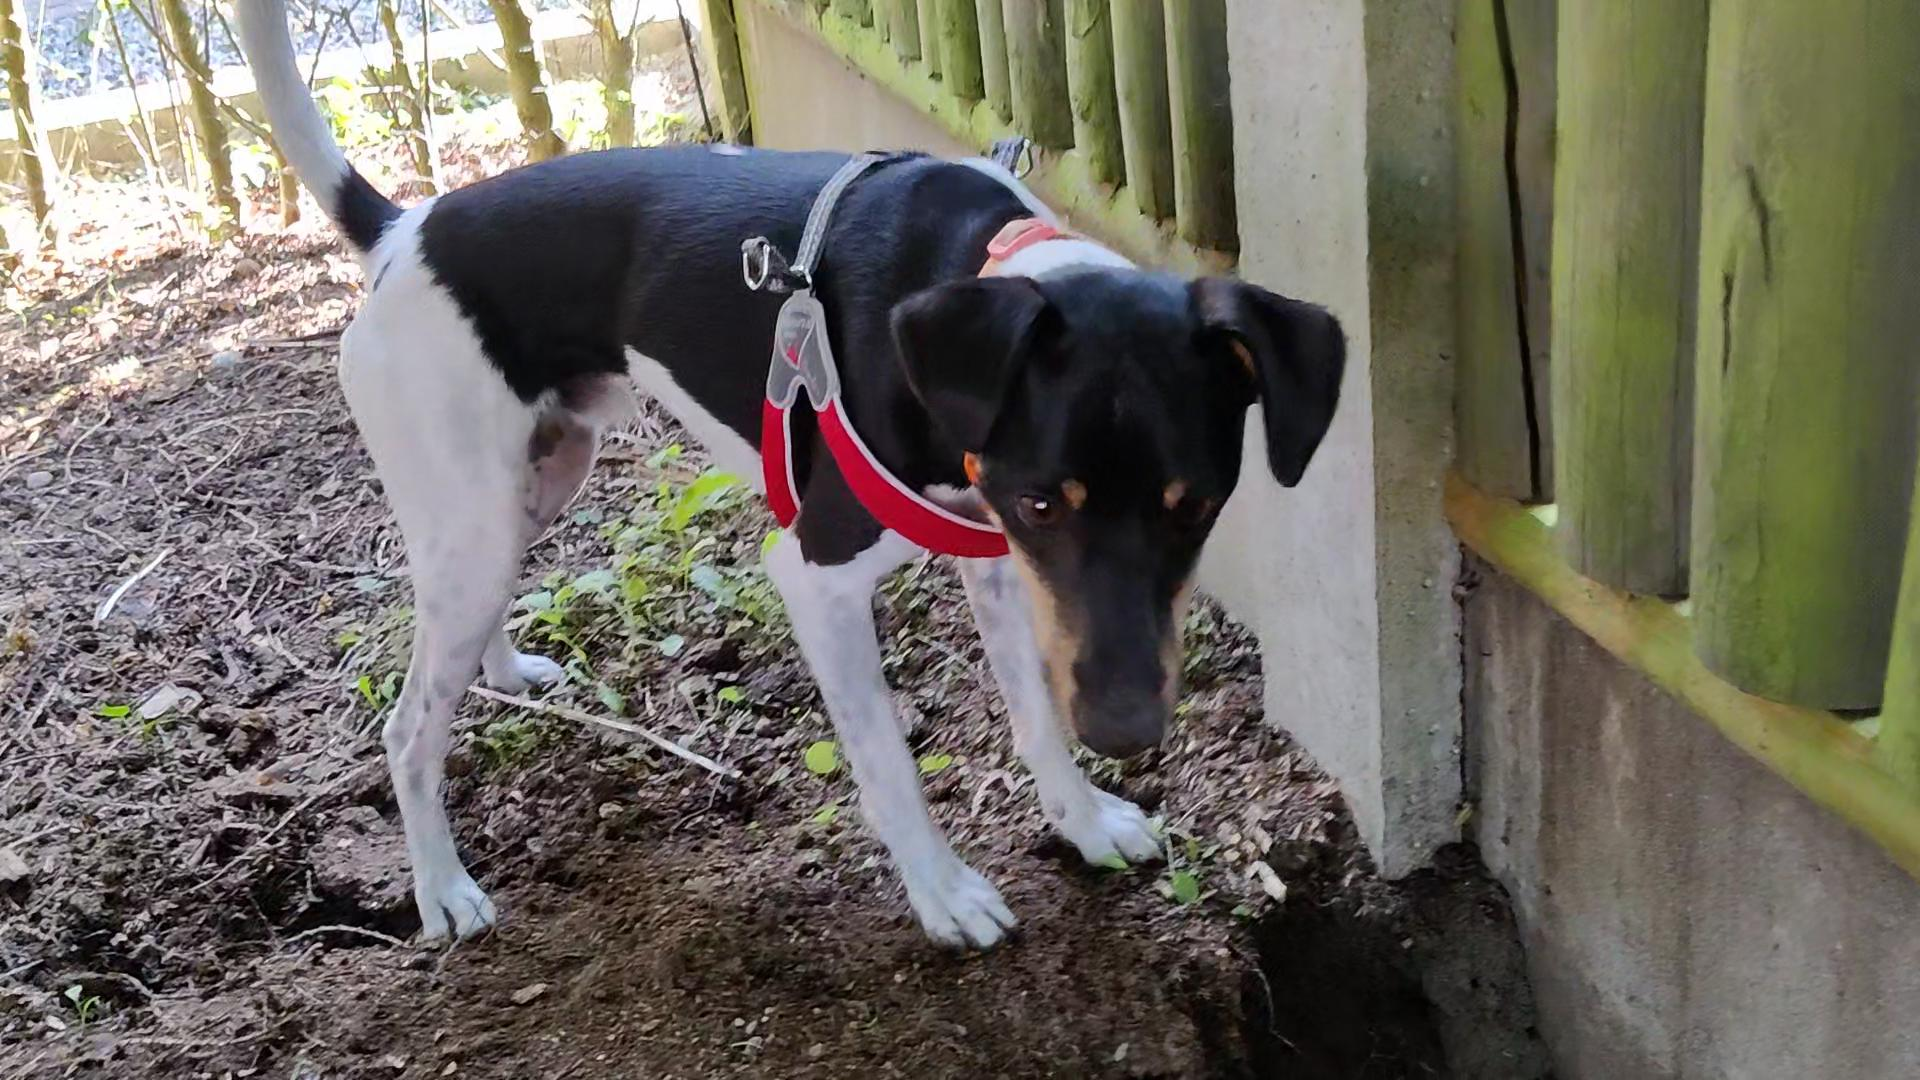Dog: (211, 0, 1366, 964)
